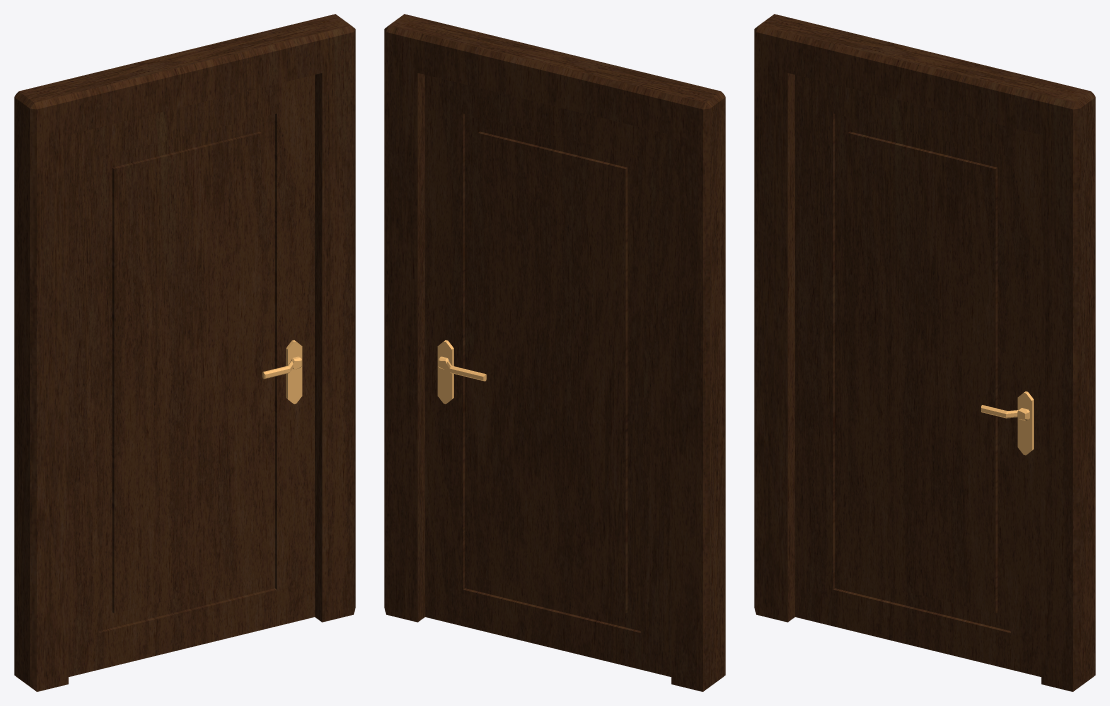
The model's file is low-poly_door.glb.
The picture shows the model from 3 angles, left to right: view 1: azimuth 30°, elevation 25°; view 2: azimuth 150°, elevation 25°; view 3: azimuth 330°, elevation 25°; orthographic projection.
Visible parts, largest first — view 1: Cube.001, Cube, Cube.006; view 2: Cube.001, Cube, Cube.006; view 3: Cube.001, Cube, Cube.006.
Boxes of the visible parts, box(x1,y1,x2,y2) form: Cube.001: box(68, 75, 314, 676); Cube: box(14, 14, 355, 691); Cube.006: box(286, 340, 302, 403); Cube.001: box(425, 75, 671, 676); Cube: box(384, 14, 725, 691); Cube.006: box(437, 340, 453, 403); Cube.001: box(795, 75, 1041, 676); Cube: box(754, 14, 1095, 691); Cube.006: box(1017, 391, 1033, 455).
Bounding box in the file's own units: 1.26 × 2.18 × 0.1635.
4 materials, 2 textured.
